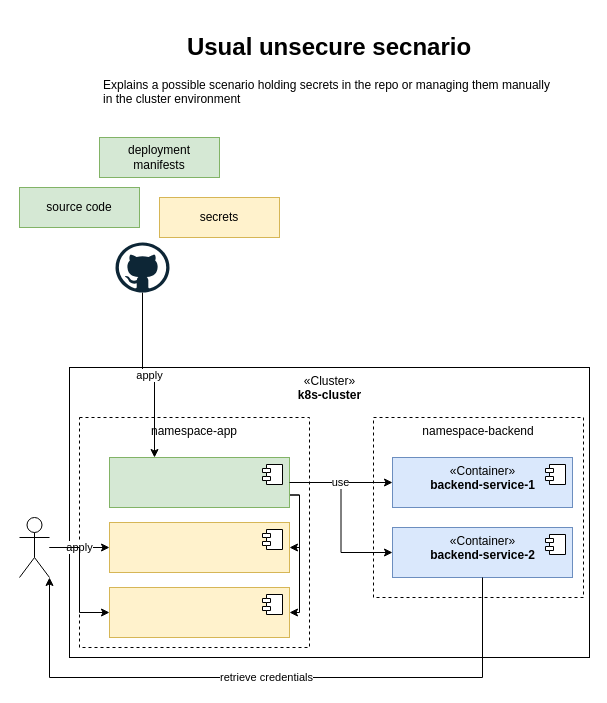
Some shapes in this 607 by 703 pixel diagram are drawn without their labels. The shapes that lost their labels are listed below. From the top down, each one's centre as x and y in pixels, then its label:
At [199,482]: "«Container» app".
At [34,547]: "Admin".
At [199,547]: "«Secret» app-backend1-secret".
At [199,612]: "«Secret» app-backend2-secret".
